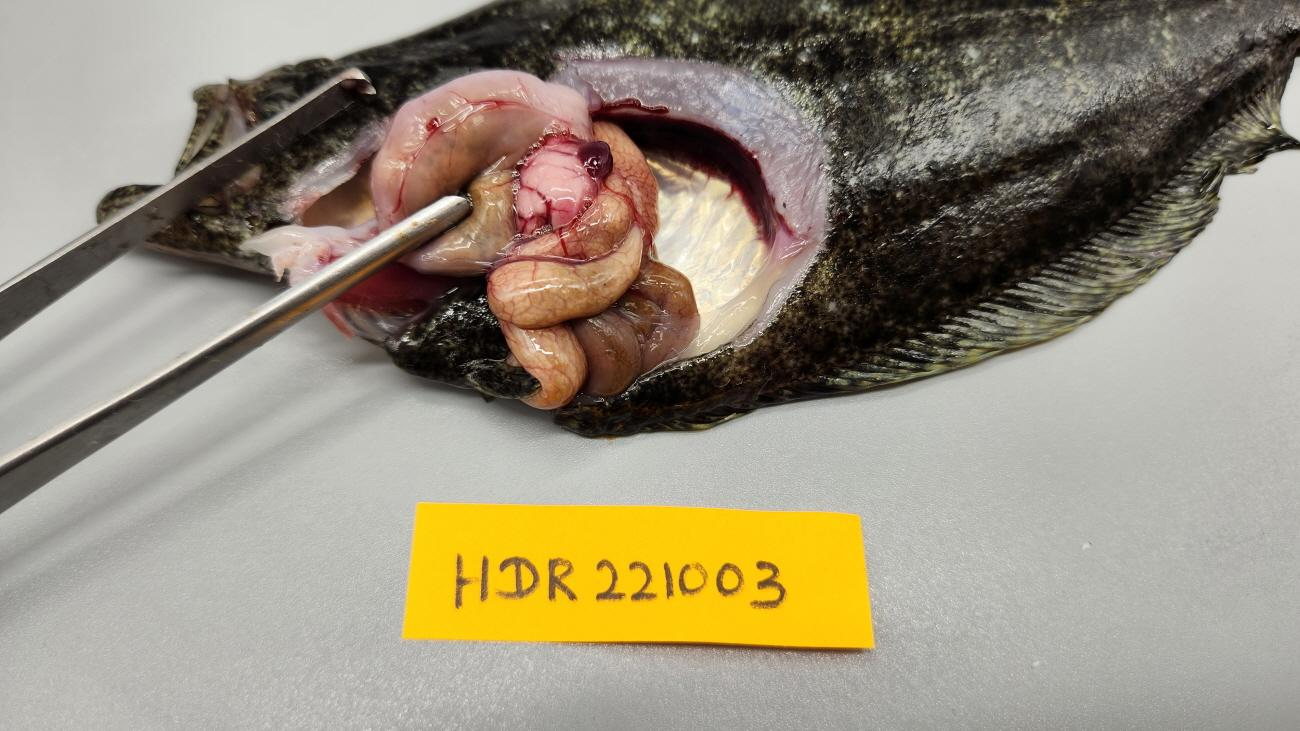POINN: (488, 125, 655, 406)
POSPN: (576, 140, 608, 174)
